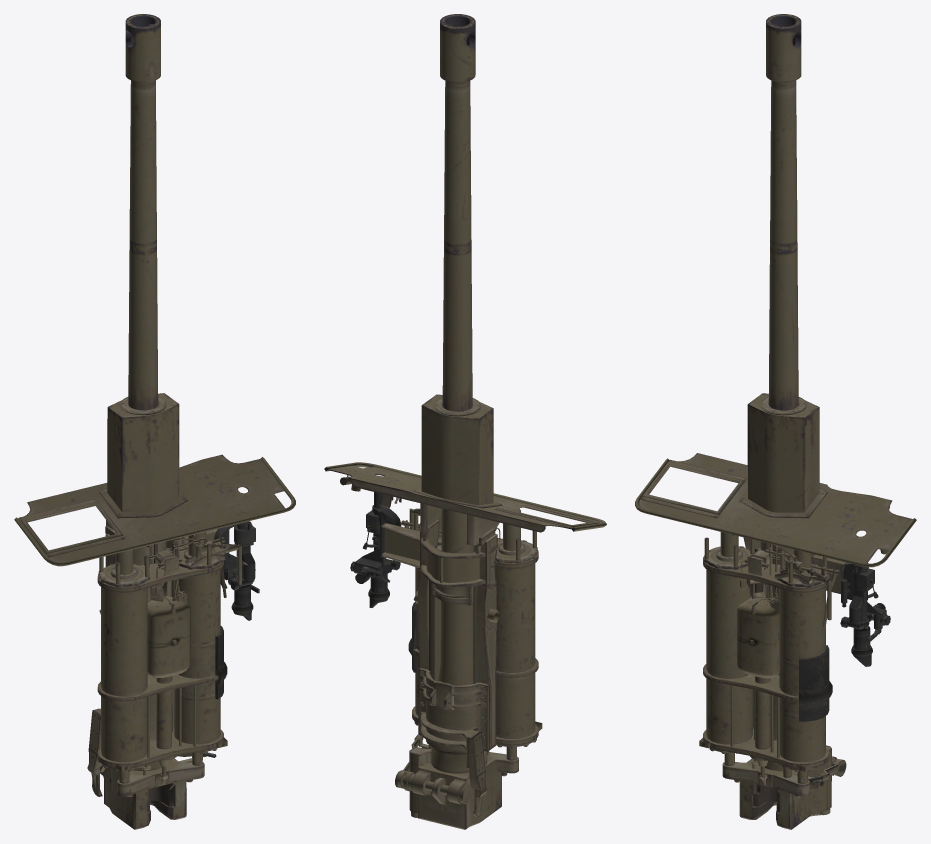
The model's file is Gun_01.glb.
3 renders of one model, left to right at view 1: azimuth 30°, elevation 25°; view 2: azimuth 150°, elevation 25°; view 3: azimuth 330°, elevation 25°, orthographic.
Visible parts, largest first — view 1: set_0_group_0; view 2: set_0_group_0; view 3: set_0_group_0.
Boxes of the visible parts, bbox=[...] form: set_0_group_0: bbox=[14, 14, 295, 829]; set_0_group_0: bbox=[324, 14, 606, 829]; set_0_group_0: bbox=[635, 14, 916, 829].
Bounding box in the file's own units: 1.62 × 4.88 × 0.6243.
Materials: 1 (1 with a texture image).
